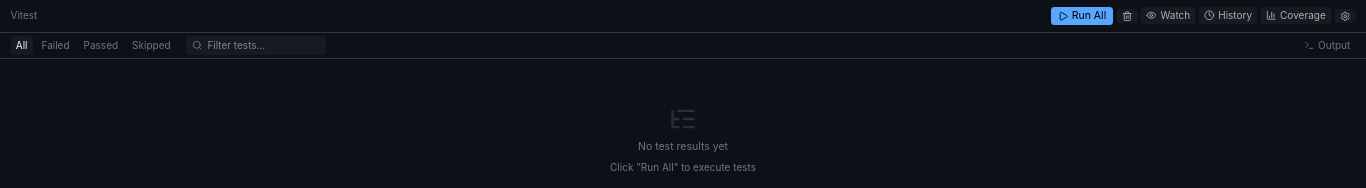
it: TestRunnerPanel › history record hides failed count when 0
The image size is (1366, 188).
Click the button "History": x=1228, y=16 [1199,7,1257,24]
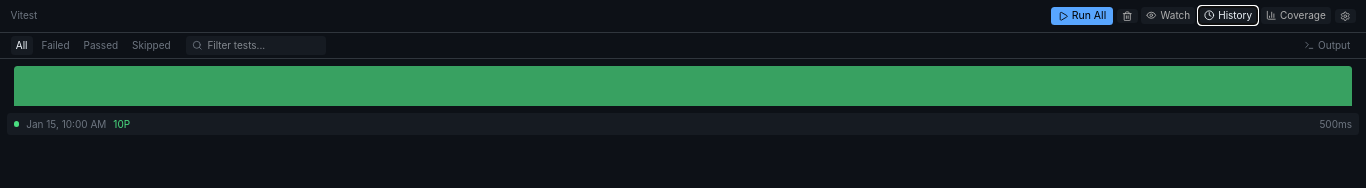
expect the text "500ms" is shown: met, box [1319,116,1352,132]
